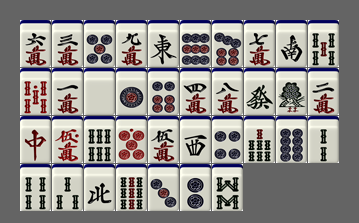0m: (52, 116, 83, 163)
0p: (116, 116, 147, 163)
0s: (20, 68, 51, 115)
1m: (52, 68, 83, 115)
1p: (116, 68, 147, 115)
1s: (276, 68, 307, 115)
1z: (148, 20, 179, 67)
2m: (308, 68, 339, 115)
2p: (180, 164, 211, 211)
2s: (308, 116, 339, 163)
2z: (276, 20, 307, 67)
3m: (52, 20, 83, 67)
3p: (148, 164, 179, 211)
3s: (52, 164, 83, 211)
3z: (180, 116, 211, 163)
4m: (180, 68, 211, 115)
4p: (212, 116, 243, 163)
4s: (20, 164, 51, 211)
4z: (84, 164, 115, 211)
5m: (148, 116, 179, 163)
5p: (84, 20, 115, 67)
5s: (308, 20, 339, 67)
5z: (84, 68, 115, 115)
6m: (20, 20, 51, 67)
6p: (148, 68, 179, 115)
6s: (84, 116, 115, 163)
6z: (244, 68, 275, 115)
7m: (244, 20, 275, 67)
7p: (212, 20, 243, 67)
7s: (244, 116, 275, 163)
7z: (20, 116, 51, 163)
8m: (212, 68, 243, 115)
8p: (276, 116, 307, 163)
8s: (212, 164, 243, 211)
9m: (116, 20, 147, 67)
9p: (180, 20, 211, 67)
9s: (116, 164, 147, 211)
